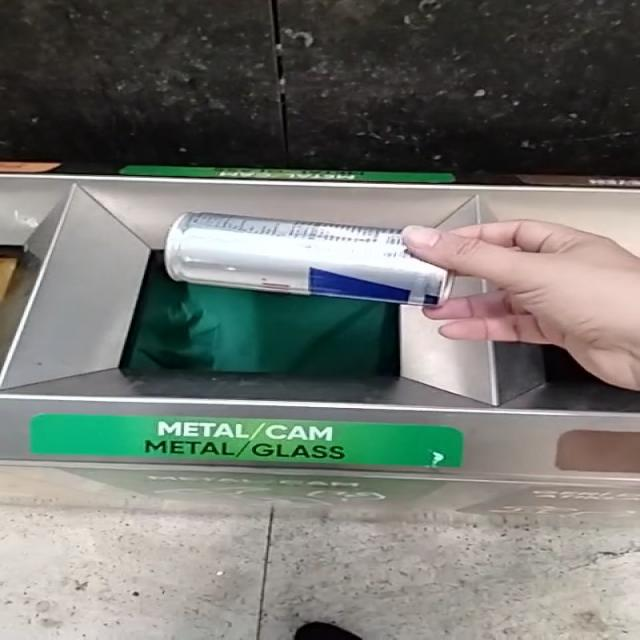bin: (0, 175, 640, 485)
metal: (164, 212, 451, 305)
